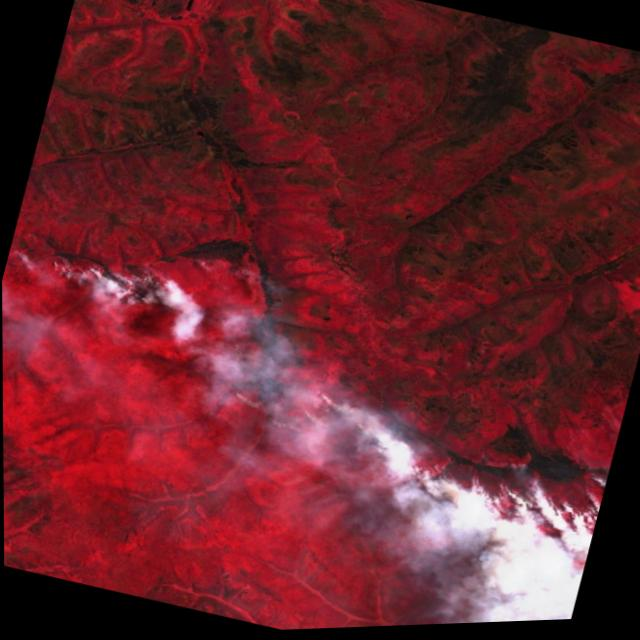fire: (197, 298, 628, 571), (32, 226, 182, 320)
